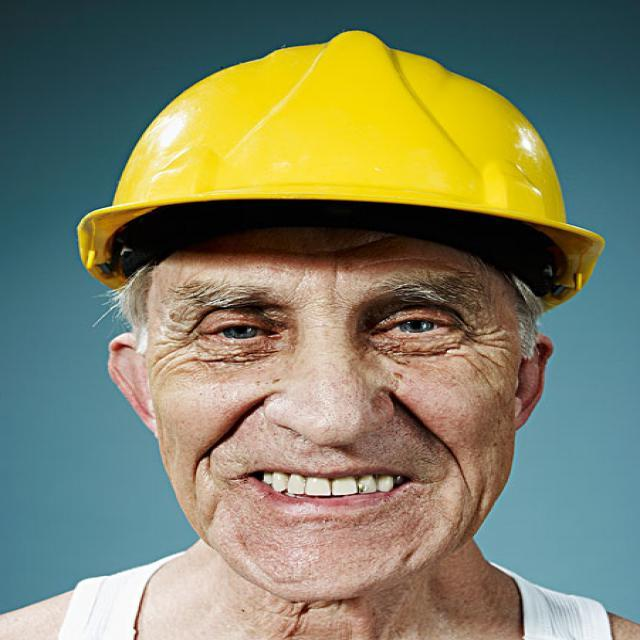safetyhelmet: (57, 19, 601, 593)
